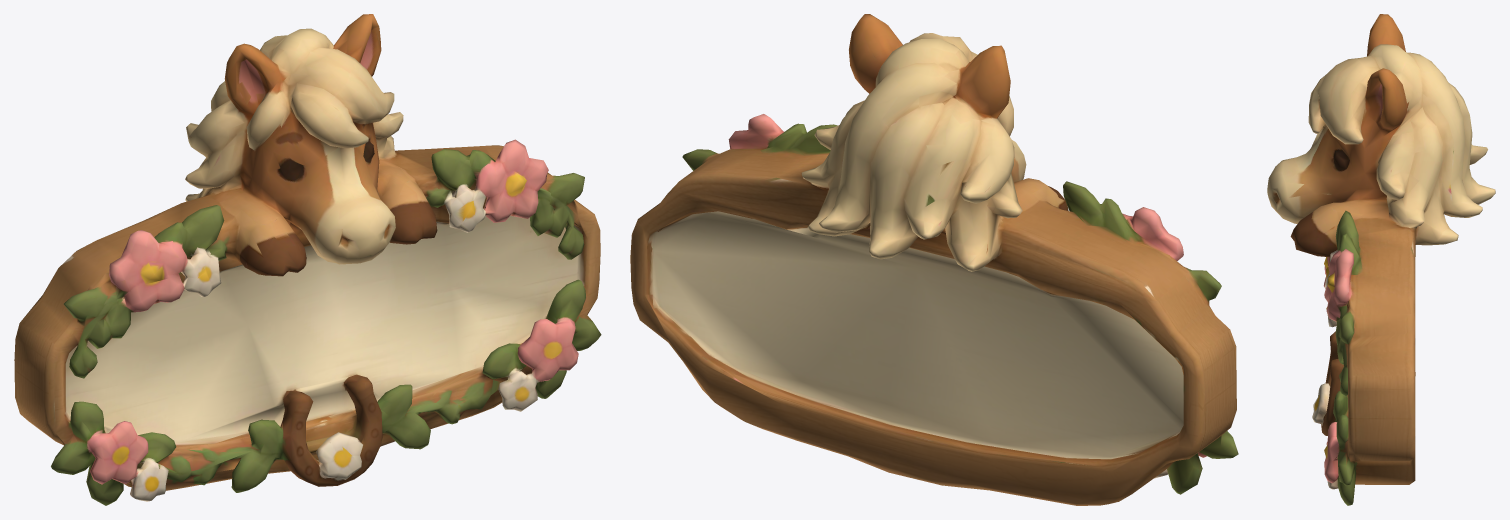
3 views of the same model, side by side, from view 1: azimuth 30°, elevation 25°; view 2: azimuth 150°, elevation 25°; view 3: azimuth 270°, elevation 25° (orthographic). The views are drawn at different scales.
Visible parts, largest first — view 1: plate-flower-pony; view 2: plate-flower-pony; view 3: plate-flower-pony.
Boxes of the visible parts, x1,y1,x2,y2 form: plate-flower-pony: [14, 14, 601, 505]; plate-flower-pony: [630, 14, 1238, 505]; plate-flower-pony: [1267, 14, 1495, 505].
Bounding box in the file's own units: 1.2 × 0.8948 × 0.4758.
1 material, 1 textured.
